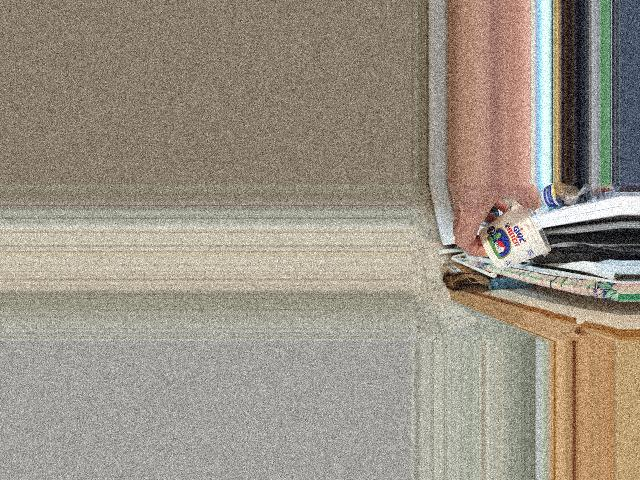cotage: (482, 207, 552, 268)
